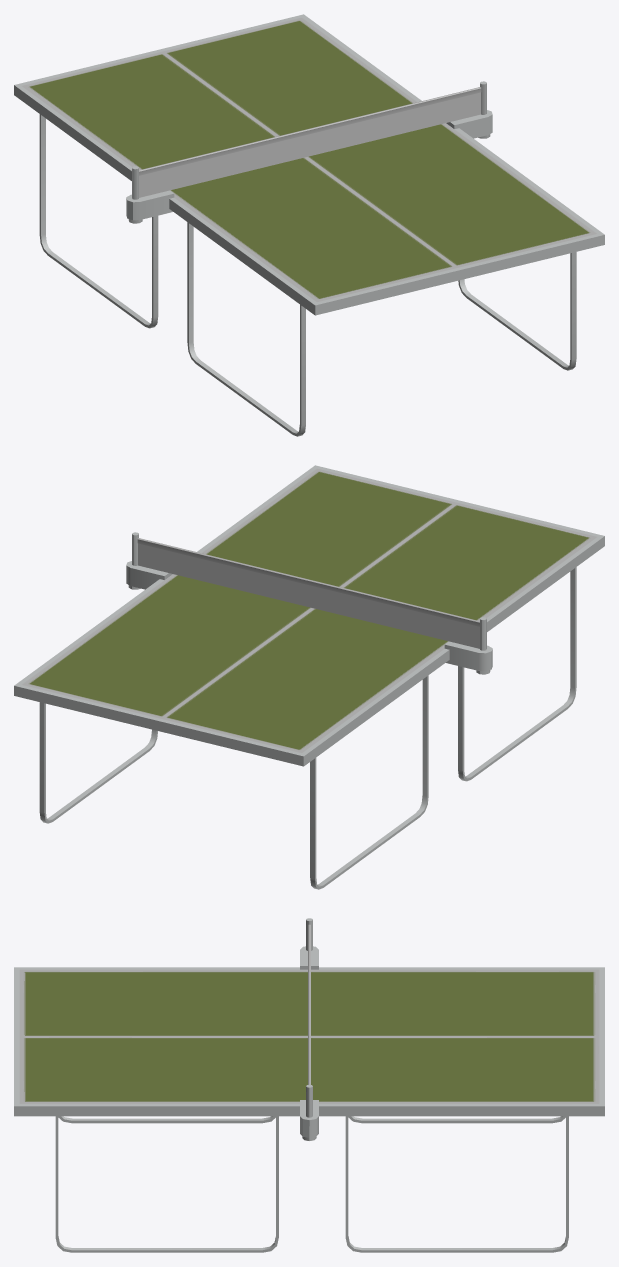
Rendered from pingpong_table.FBX.
3 views of the same model, one above another, from view 1: azimuth 30°, elevation 25°; view 2: azimuth 150°, elevation 25°; view 3: azimuth 270°, elevation 25° (orthographic).
Parts seen in each view (by area): view 1: pingpong_table; view 2: pingpong_table; view 3: pingpong_table.
Part boxes in pixels (x1=…): pingpong_table: x1=14, y1=14, x2=604, y2=436; pingpong_table: x1=14, y1=465, x2=604, y2=889; pingpong_table: x1=14, y1=918, x2=604, y2=1252.
Size of the model in its own units: 1.92 by 0.9421 by 2.74.
